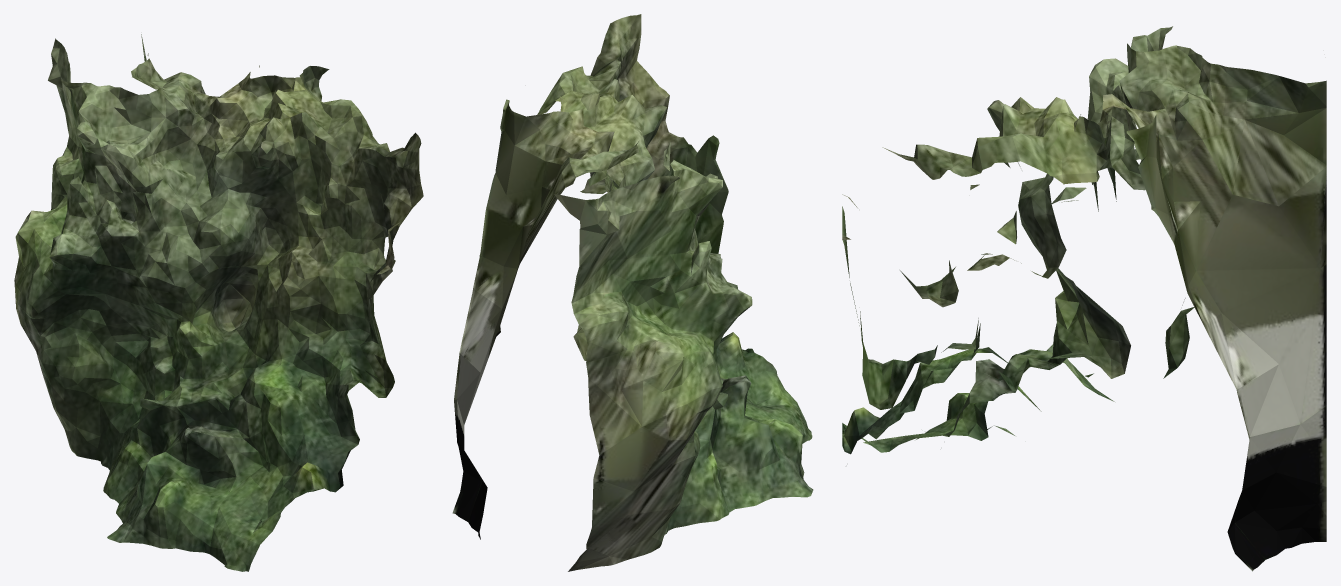
3 renders of one model, left to right at view 1: azimuth 30°, elevation 25°; view 2: azimuth 150°, elevation 25°; view 3: azimuth 270°, elevation 25°, orthographic. The views are drawn at different scales.
Bounding box in the file's own units: 8.29 × 11.8 × 11.8.
Materials: 5 (5 with a texture image).
